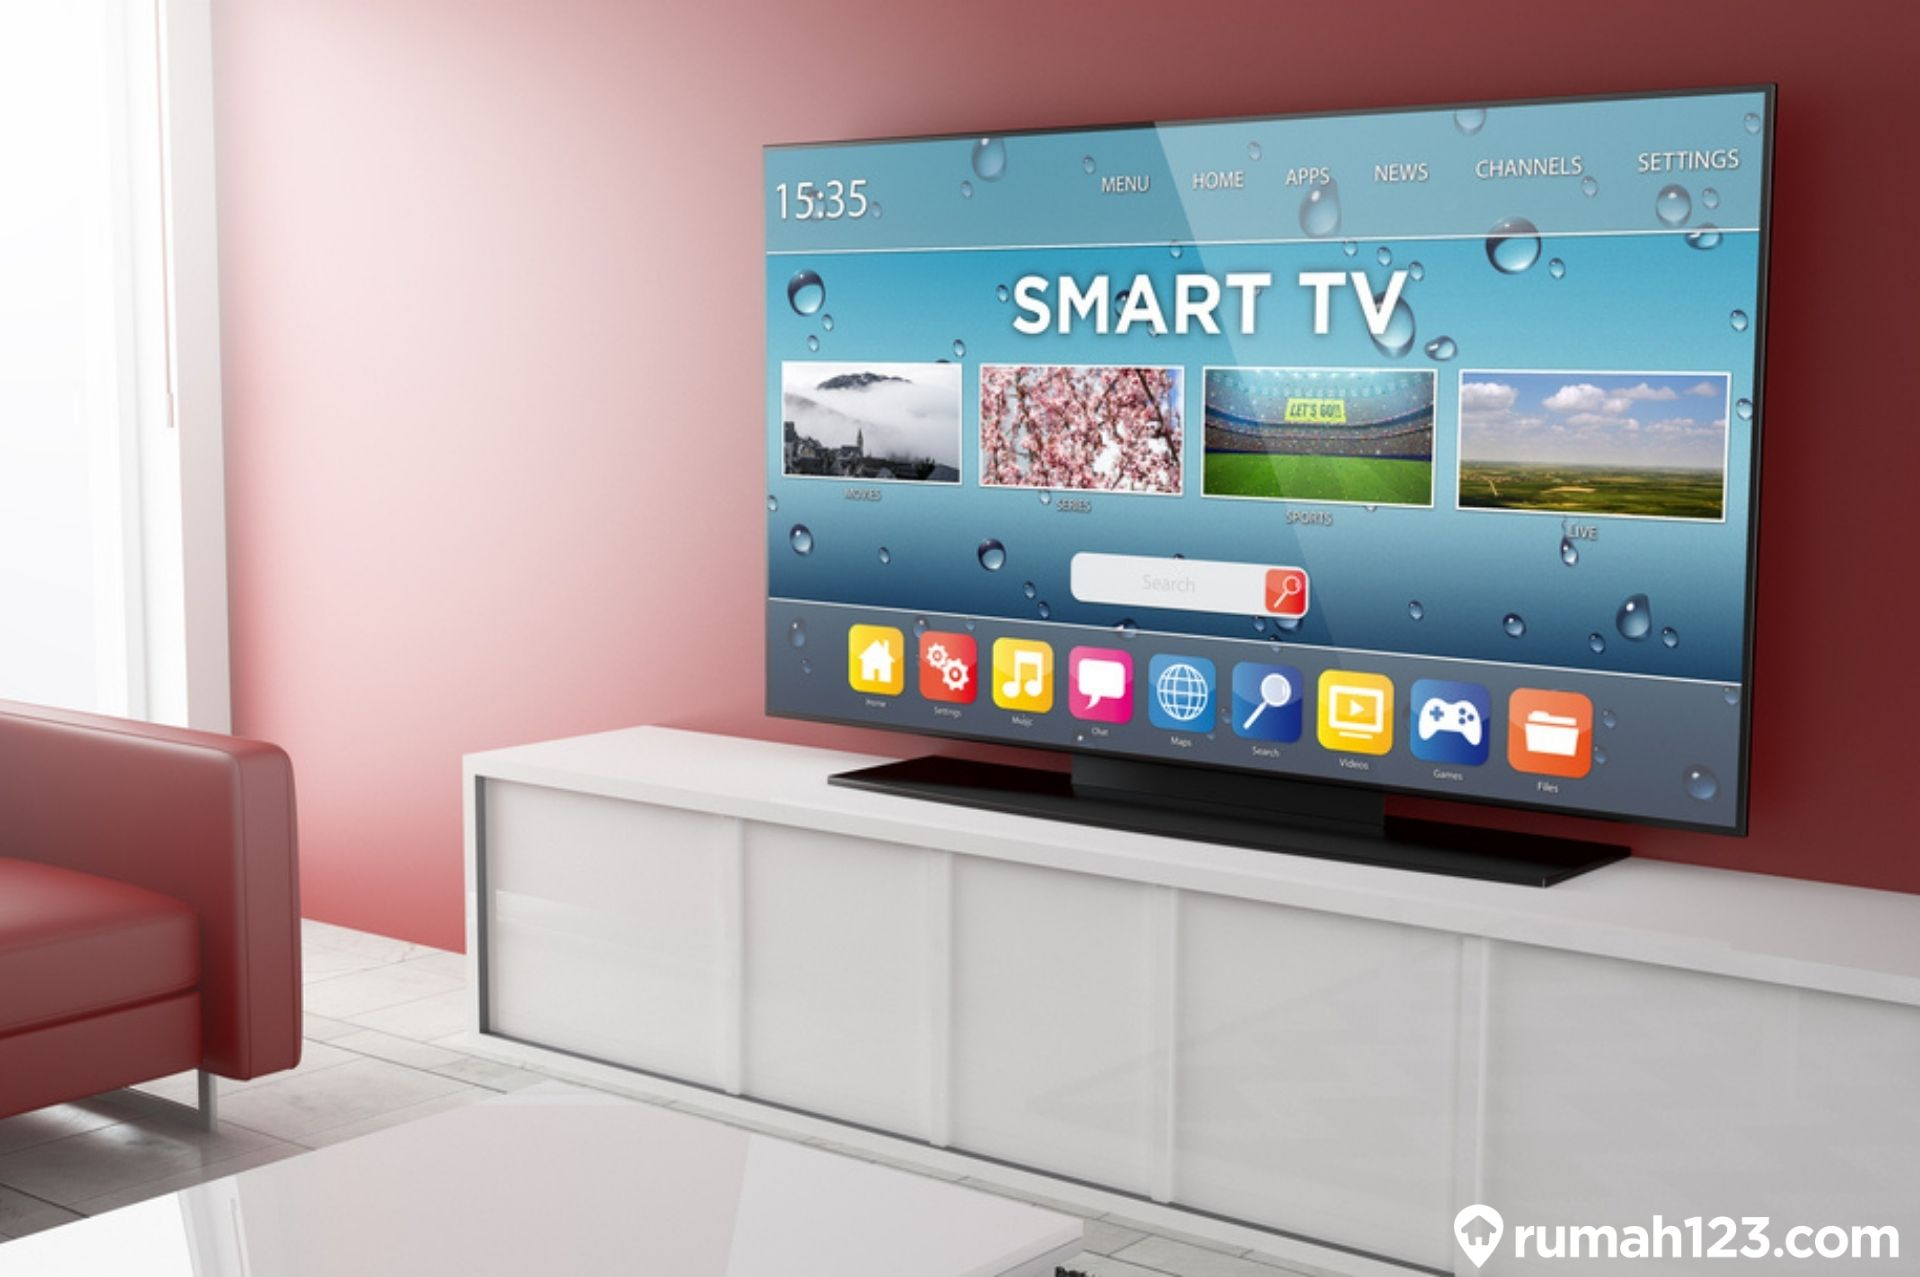tv: (724, 130, 1829, 884)
